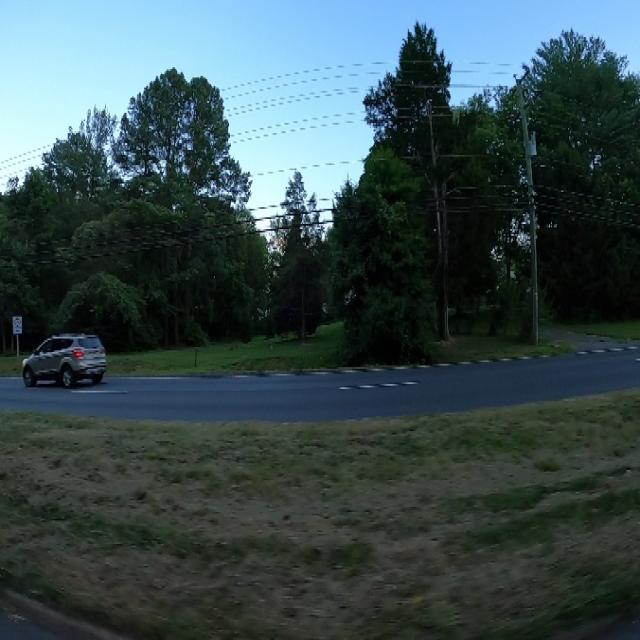car: (14, 315, 114, 397)
